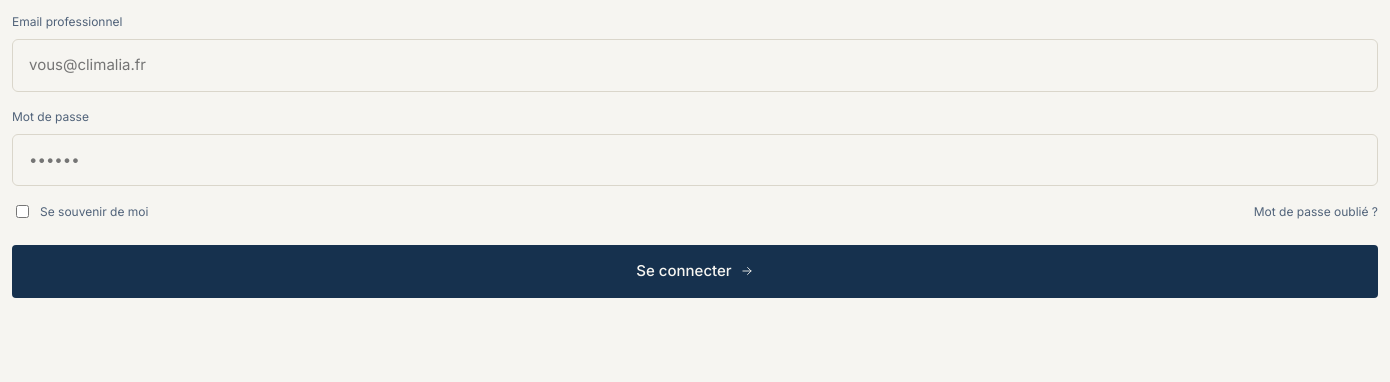
Test: LoginForm › shows error on bad credentials
Type "admin@climalia.fr" into the field labelled "Email professionnel".
click(695, 65); type("admin@climalia.fr")  # box [12, 39, 1378, 92]
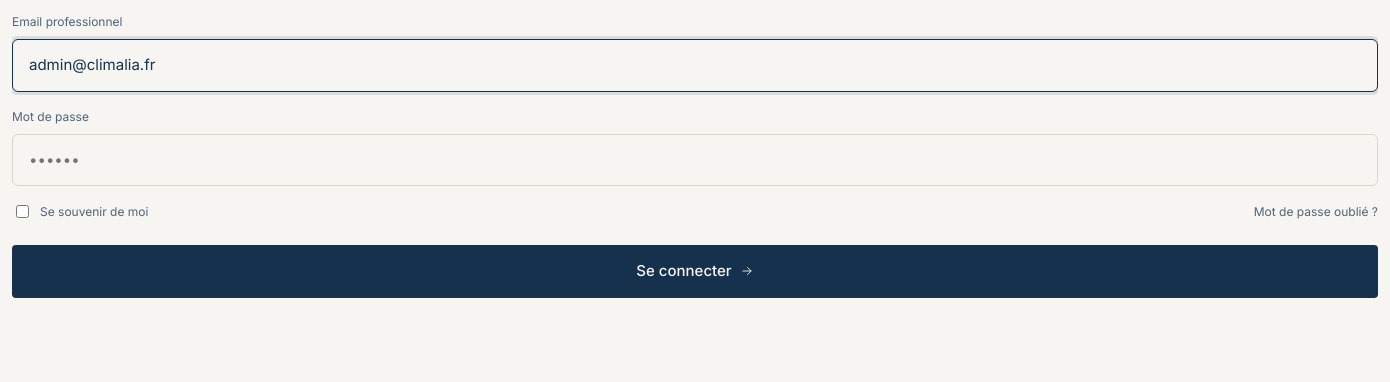
Type "wrong" into the password field labelled "Mot de passe".
click(695, 160); type("wrong")  # box [12, 134, 1378, 186]
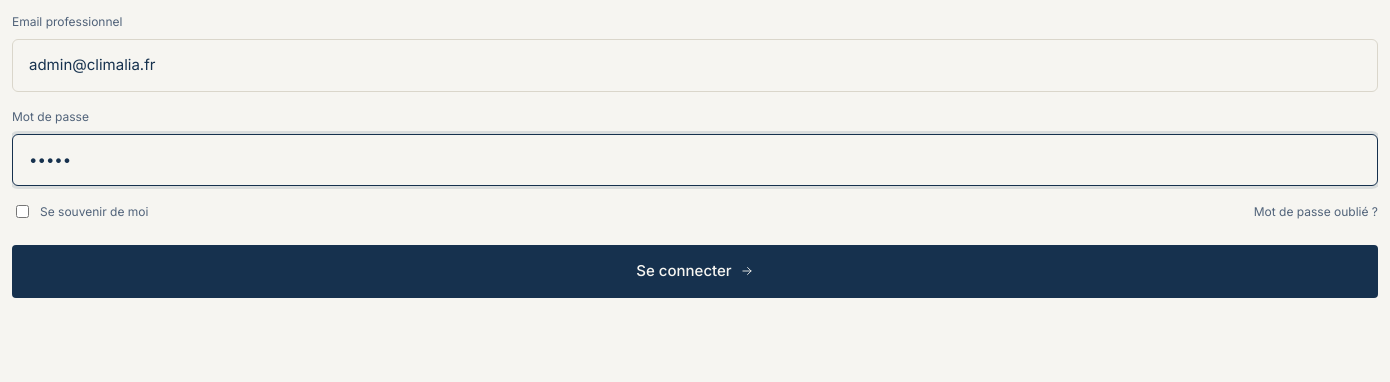
Click the button "Se connecter".
click(695, 271)  # box [12, 245, 1378, 298]
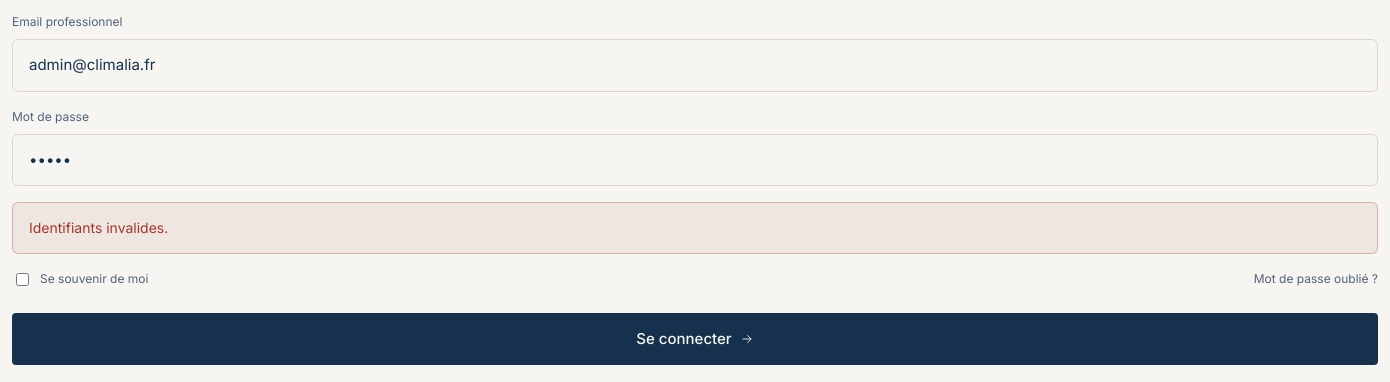
Expected: the message reads "Identifiants invalides.", [29, 219, 168, 236]
